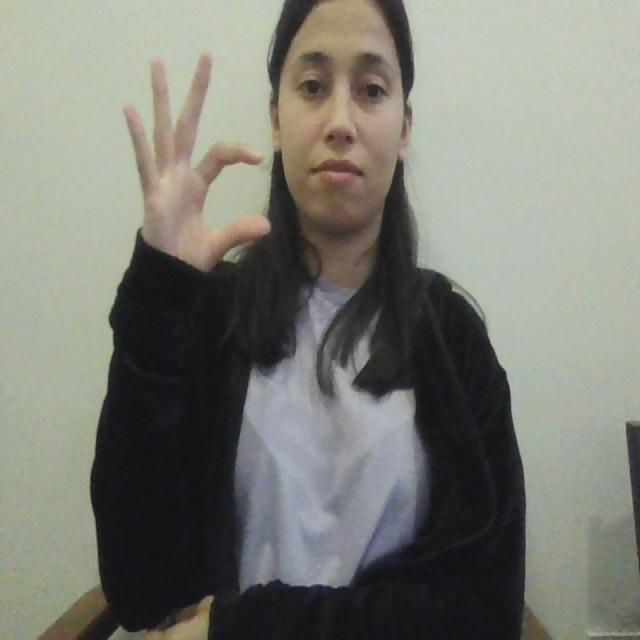Tuvalet: (76, 17, 308, 367)
